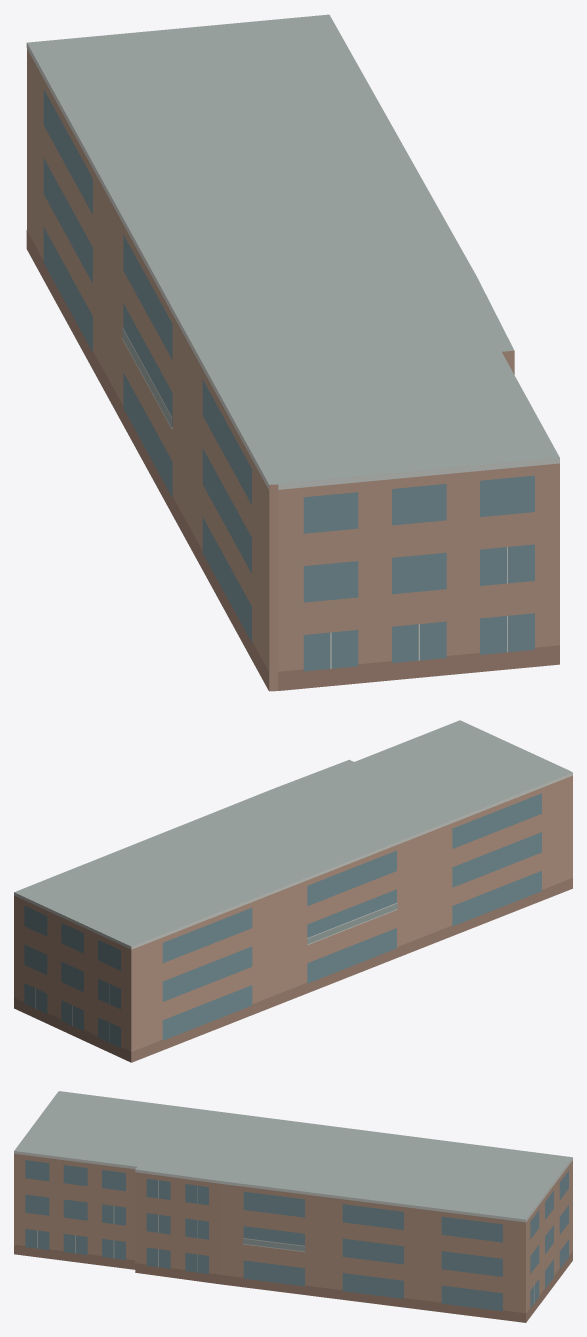
The model's file is survey-upis-32466253.glb.
3 renders of one model, top to bottom at view 1: azimuth 30°, elevation 25°; view 2: azimuth 150°, elevation 25°; view 3: azimuth 270°, elevation 25°, orthographic. The views are drawn at different scales.
Parts seen in each view (by area): view 1: survey-upis-32466253.tmp; view 2: survey-upis-32466253.tmp; view 3: survey-upis-32466253.tmp.
Part boxes in pixels (x1,y1,x2,y2): survey-upis-32466253.tmp: [26, 14, 559, 691]; survey-upis-32466253.tmp: [14, 720, 572, 1062]; survey-upis-32466253.tmp: [14, 1091, 572, 1322].
Bounding box in the file's own units: 24.44 × 9.15 × 44.88.
